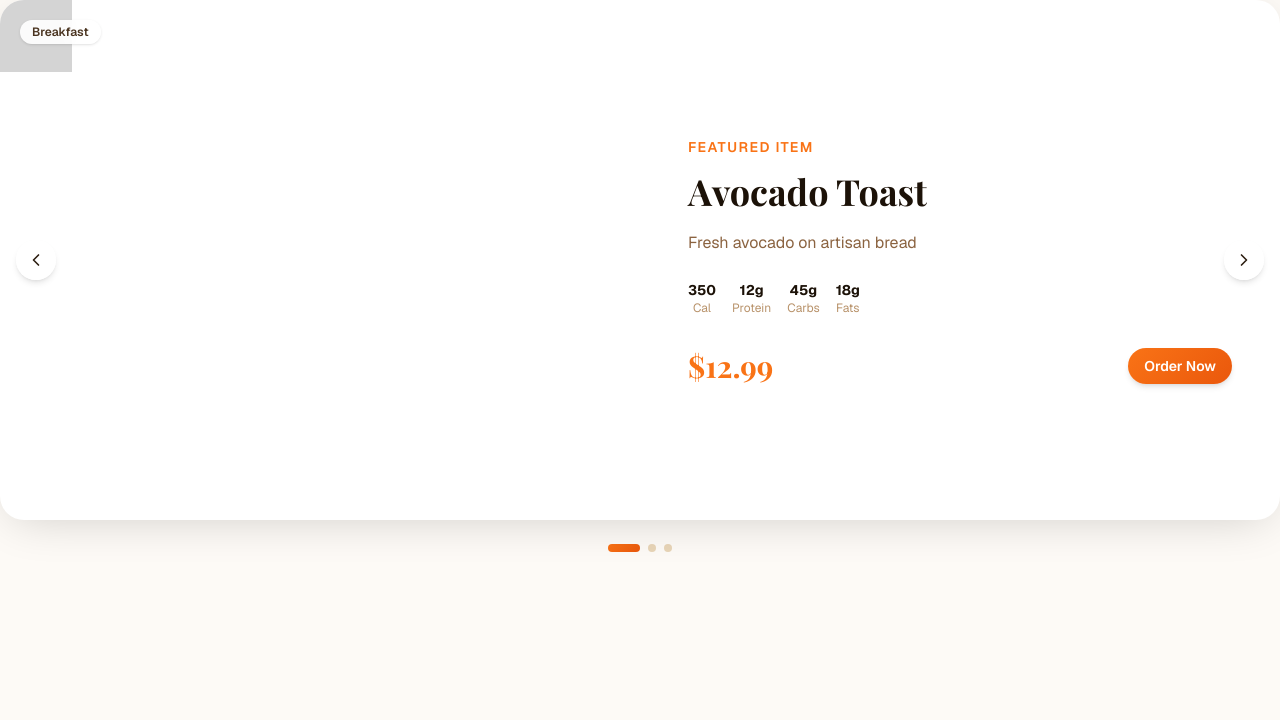
Test case: Carousel › navigates to next item when next button is clicked
The image size is (1280, 720).
Click the button named "Next item": (1244, 260) [1224,240,1264,280]
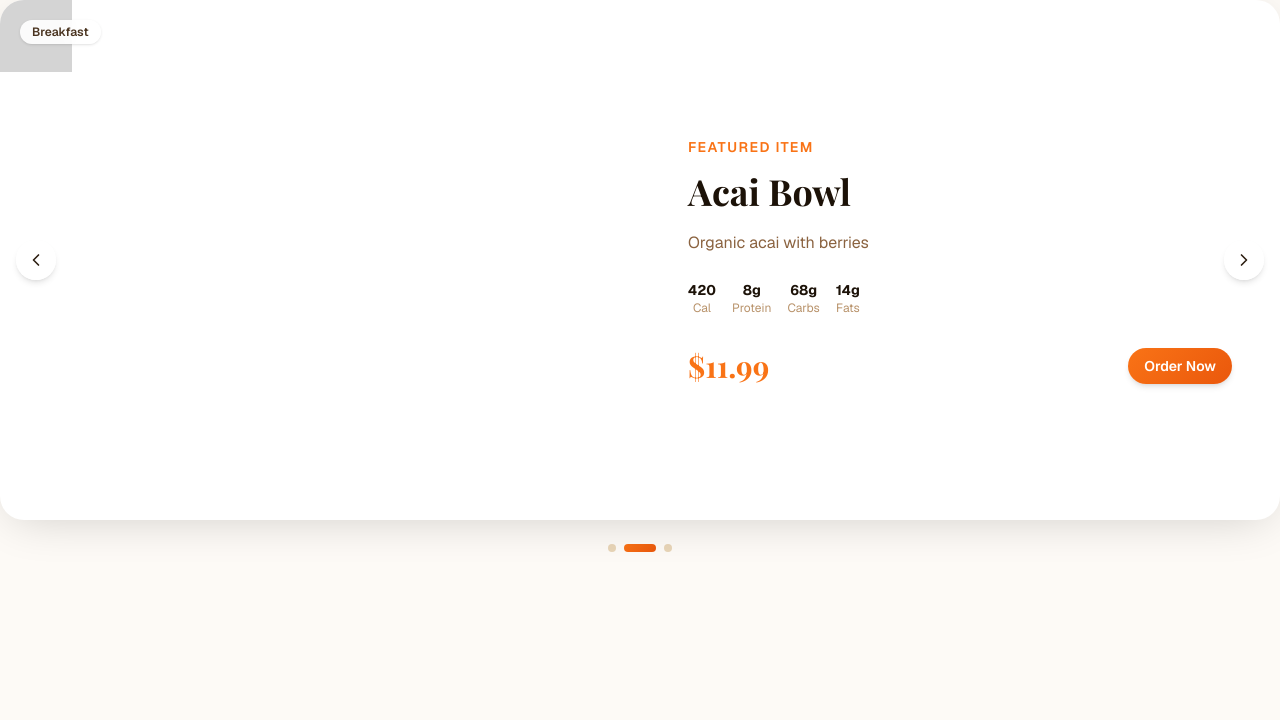
Now the heading "Acai Bowl" is shown, box [688,166,851,214]
